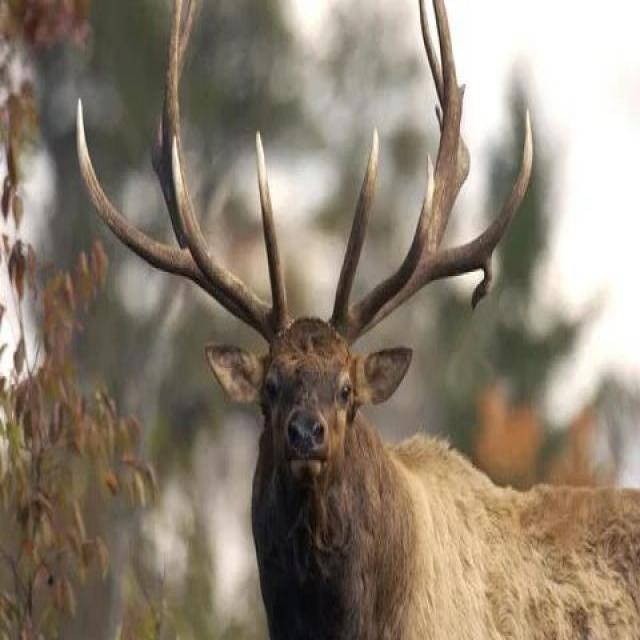deer: (100, 80, 550, 620)
